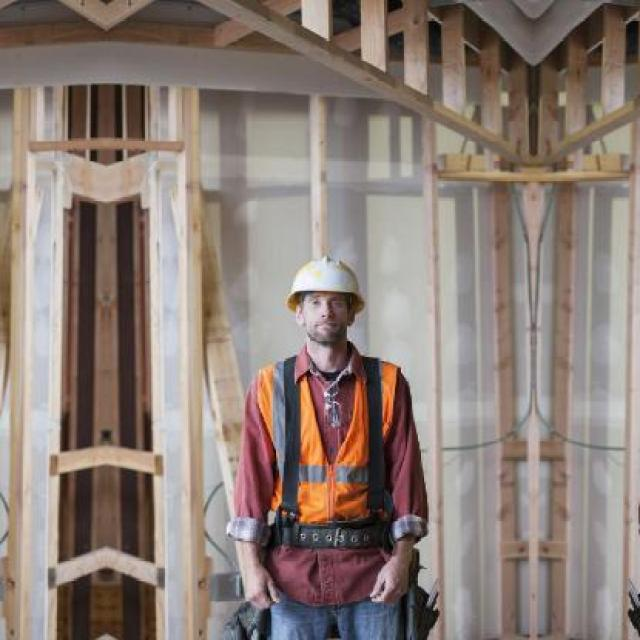helmet: (275, 257, 365, 352)
